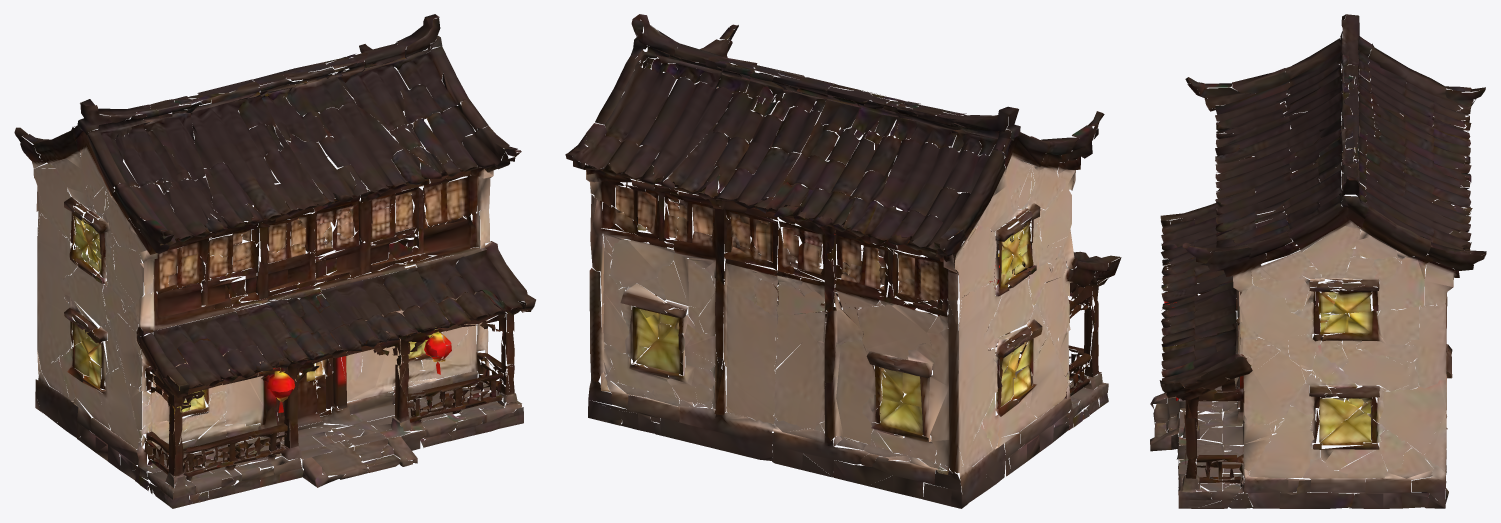
File: house_d_20k.glb
The picture shows the model from 3 angles, left to right: view 1: azimuth 30°, elevation 25°; view 2: azimuth 150°, elevation 25°; view 3: azimuth 270°, elevation 25°; orthographic projection. The views are drawn at different scales.
Visible parts, largest first — view 1: tripo_node_303aa4f1-62ce-4882-8e1d-e365c292e96b; view 2: tripo_node_303aa4f1-62ce-4882-8e1d-e365c292e96b; view 3: tripo_node_303aa4f1-62ce-4882-8e1d-e365c292e96b.
Part boxes in pixels (<box>): tripo_node_303aa4f1-62ce-4882-8e1d-e365c292e96b: <box>14,14,535,508</box>; tripo_node_303aa4f1-62ce-4882-8e1d-e365c292e96b: <box>565,14,1121,508</box>; tripo_node_303aa4f1-62ce-4882-8e1d-e365c292e96b: <box>1150,14,1486,508</box>.
Size of the model in its own units: 0.9828 by 0.8837 by 0.8104.
1 material, 1 textured.
